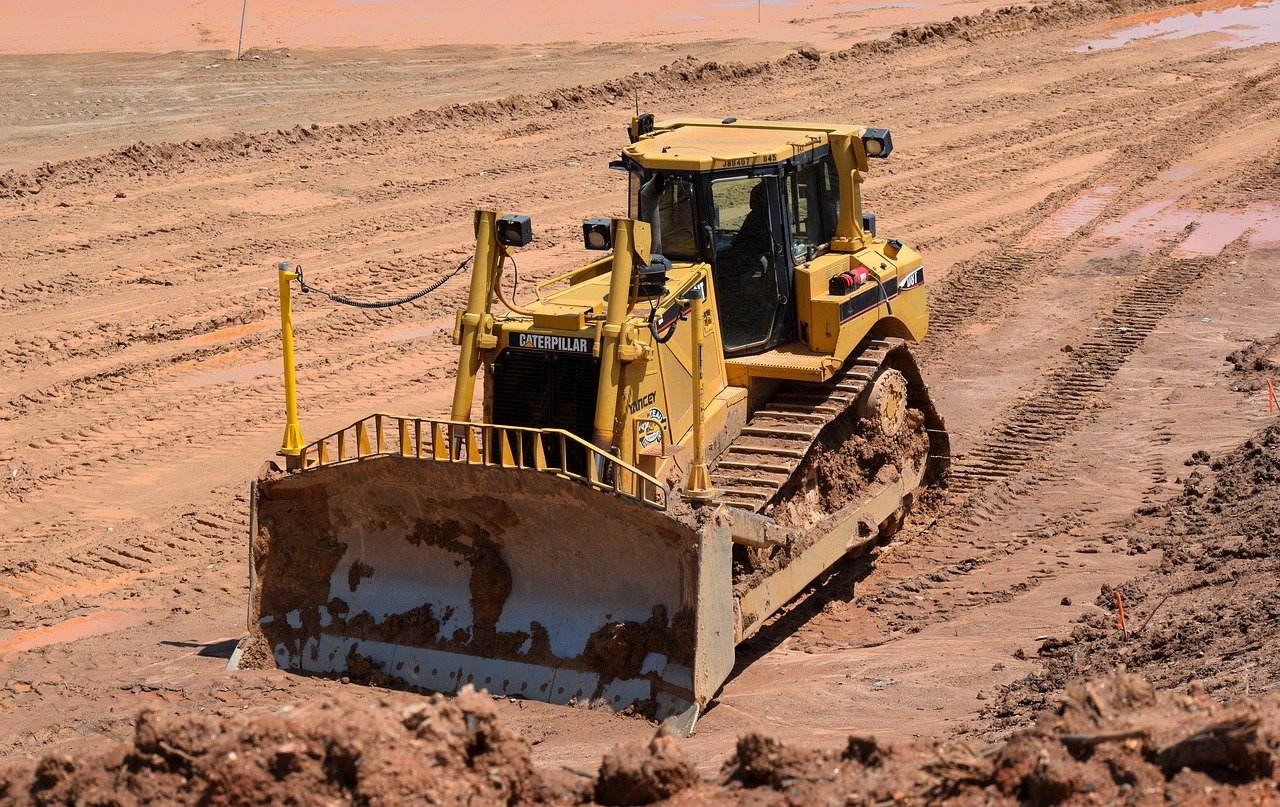bulldozer: (248, 105, 970, 713)
